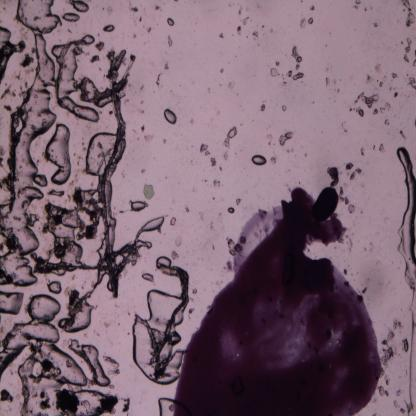Air bubble: (0, 32, 55, 291), (0, 293, 101, 412), (395, 146, 416, 414), (45, 197, 89, 267), (68, 336, 112, 390), (56, 76, 102, 125), (0, 24, 26, 91), (130, 319, 156, 385), (47, 120, 72, 186), (15, 0, 60, 33), (144, 285, 175, 331), (85, 131, 116, 176), (65, 298, 94, 332), (0, 289, 25, 316), (142, 215, 165, 234), (156, 396, 174, 415), (155, 255, 172, 271), (62, 11, 82, 23), (73, 0, 90, 14), (163, 107, 177, 124), (250, 152, 267, 166), (48, 280, 62, 296), (130, 200, 146, 212), (82, 33, 96, 46), (141, 271, 154, 282), (102, 23, 115, 33), (227, 204, 236, 216), (166, 17, 175, 27)
Background material: (122, 222, 150, 269), (380, 329, 398, 399), (352, 89, 389, 119), (286, 47, 306, 84), (56, 388, 82, 414), (99, 392, 131, 412), (200, 143, 220, 168), (102, 352, 121, 378), (88, 40, 106, 66), (402, 36, 416, 67), (344, 159, 362, 183), (339, 191, 356, 215), (361, 69, 383, 87), (36, 389, 52, 413), (325, 164, 341, 188), (223, 126, 238, 150), (141, 120, 158, 141), (401, 0, 414, 27), (140, 182, 156, 203), (280, 129, 296, 148), (318, 71, 336, 87), (0, 387, 14, 405), (20, 54, 35, 69), (271, 60, 281, 80), (151, 69, 162, 87), (300, 16, 314, 30), (385, 65, 397, 80), (376, 138, 387, 154), (238, 16, 248, 33), (129, 6, 141, 20), (406, 74, 416, 89), (170, 213, 177, 229), (166, 34, 174, 48), (403, 337, 409, 352), (372, 20, 379, 30), (260, 102, 267, 112), (235, 196, 242, 206), (214, 33, 224, 39)
Cellulose filter fibre: (99, 52, 125, 298), (139, 263, 190, 374), (53, 36, 84, 102), (7, 112, 23, 211), (36, 258, 110, 274)
Pen: (173, 183, 382, 415)
